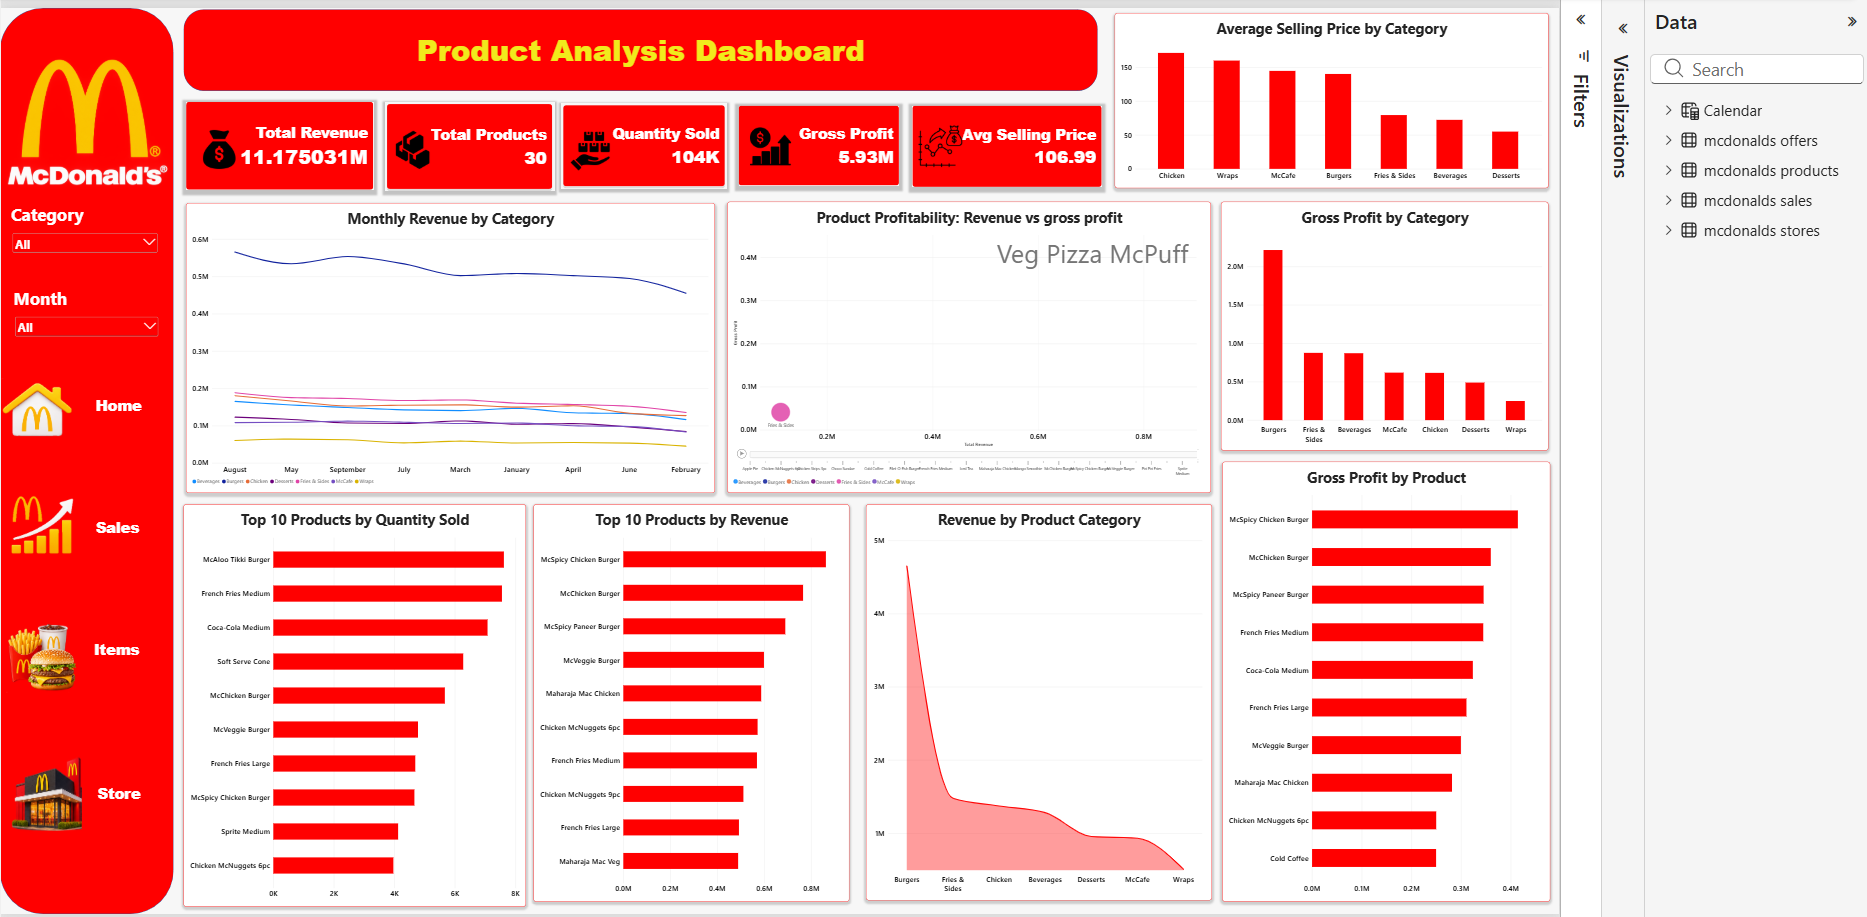

The dashboard page shown, as its layout file describes it:
{"tool":"powerbi","page":{"name":"products","canvas":[4300,2500],"ordinal":2},"visuals":[{"type":"group","id":"g1","title":"Group 4","box":[-3.6,0,479.7,2500],"z":0,"group":"g12"},{"type":"group","id":"g2","title":"Group 1","box":[-3.6,0,479.7,2500],"z":0,"group":"g4"},{"type":"shape","box":[-3.6,0,479.7,2500],"z":0,"group":"g2"},{"type":"areaChart","title":"Revenue by Product Category","fields":{"Category":["mcdonalds products.category"],"Y":["mcdonalds sales.Total Revenue"]},"box":[2387.9,1369.1,954.2,1092.5],"z":0},{"type":"image","box":[15,1339.2,195.2,181.8],"z":500,"group":"g2"},{"type":"image","box":[15,1681.9,195.2,205.3],"z":750,"group":"g2"},{"type":"image","box":[28.9,2065.9,195.2,208.7],"z":875,"group":"g2"},{"type":"image","box":[-3.6,0,479.7,609.8],"z":1000,"group":"g2"},{"type":"group","id":"g3","title":"Group 6","box":[-3.6,0,479.7,2500],"z":1000,"group":"g1"},{"type":"barChart","title":"Top 10 Products by Revenue","fields":{"Category":["mcdonalds products.product_name"],"Y":["mcdonalds sales.Total Revenue"]},"box":[1470.5,1369.1,871.3,1097.1],"z":1000},{"type":"textbox","title":"Sales","box":[210.3,1403.1,221.5,57.3],"z":1000,"group":"g12"},{"type":"slicer","title":"Category","fields":{"Values":["mcdonalds products.category"]},"box":[28.9,539.3,409.2,178.2],"z":1750,"group":"g2"},{"type":"slicer","title":"Month","fields":{"Values":["Calendar.Month"]},"box":[33.6,767.8,404.5,173.7],"z":1875,"group":"g2"},{"type":"textbox","title":"Home","box":[206.2,1070,234.3,68.6],"z":2000,"group":"g2"},{"type":"barChart","title":"Top 10 Products by Quantity Sold","fields":{"Category":["mcdonalds products.product_name"],"Y":["mcdonalds sales.Quantity Sold"]},"box":[503.5,1369.2,945,1110.5],"z":2000},{"type":"textbox","title":"Items","box":[228.7,1742.7,182.2,68.6],"z":2000,"group":"g12"},{"type":"cardVisual","fields":{"Data":["mcdonalds sales.Total Revenue"]},"box":[510.9,258,517.4,243.5],"z":3000,"group":"g8"},{"type":"scatterChart","title":"Product Profitability: Revenue vs gross profit ","fields":{"Category":["mcdonalds products.product_name"],"Play":["mcdonalds products.product_name"],"Series":["mcdonalds products.category"],"Size":["mcdonalds sales.Quantity Sold"],"X":["mcdonalds sales.Total Revenue"],"Y":["mcdonalds sales.Gross Profit"]},"box":[2003.8,534.6,1334.7,803.6],"z":3000},{"type":"barChart","title":"Gross Profit by Product","fields":{"Category":["mcdonalds products.product_name"],"Y":["mcdonalds sales.Profit"]},"box":[3369.5,1251.9,904.8,1213.7],"z":4000},{"type":"cardVisual","fields":{"Data":["mcdonalds products.Avg Selling Price"]},"box":[2514.5,268.9,523.4,225.4],"z":5000,"group":"g11"},{"type":"columnChart","title":"Gross Profit by Category","fields":{"Category":["mcdonalds products.category"],"Y":["mcdonalds sales.Profit"]},"box":[3366.1,534.6,903.6,686.3],"z":5000},{"type":"columnChart","title":"Average Selling Price by Category","fields":{"Category":["mcdonalds products.category"],"Y":["mcdonalds products.Average Selling Price"]},"box":[3072.9,13.8,1196.7,482.8],"z":6000},{"type":"cardVisual","fields":{"Data":["mcdonalds products.Total Products"]},"box":[1057.4,258,468.9,247.2],"z":6000,"group":"g10"},{"type":"cardVisual","fields":{"Data":["mcdonalds sales.Total Quantity Sold"]},"box":[1544.3,261.6,458.2,236],"z":6000,"group":"g7"},{"type":"lineChart","title":"Monthly Revenue by Category","fields":{"Category":["Calendar.Month"],"Series":["mcdonalds products.category"],"Y":["mcdonalds sales.Total Revenue"]},"box":[510.4,538,1458.9,800.1],"z":7000},{"type":"image","box":[-3.6,1019.2,209.2,173.7],"z":7009,"group":"g4"},{"type":"group","id":"g4","title":"Group 2","box":[-3.6,0,479.7,2500],"z":7014,"group":"g5"},{"type":"group","id":"g5","title":"Group 3","box":[-3.6,0,479.7,2500],"z":7015,"group":"g3"},{"type":"textbox","title":"Store","box":[238.2,2139,174.9,57.3],"z":7020,"group":"g3"},{"type":"shape","box":[505.3,3.6,2522.6,225.4],"z":8000},{"type":"group","id":"g6","title":"Group 8","box":[-3.6,0,479.7,2500],"z":9000},{"type":"group","id":"g7","title":"Group 11","box":[1544.3,261.6,454.2,236.2],"z":10000},{"type":"group","id":"g8","title":"Group 9","box":[510.9,258,517.4,243.5],"z":11000},{"type":"group","id":"g9","title":"Group 13","box":[2034.9,268.9,443.3,221.7],"z":12000},{"type":"group","id":"g10","title":"Group 11","box":[1057.4,258,468.8,247.1],"z":13000},{"type":"group","id":"g11","title":"Group 12","box":[2514.5,268.9,523.3,225.3],"z":14000},{"type":"group","id":"g12","title":"Group 5","box":[-3.6,0,479.7,2500],"z":17000,"group":"g13"},{"type":"group","id":"g13","title":"Group 7","box":[-3.6,0,479.7,2500],"z":17001,"group":"g6"},{"type":"cardVisual","fields":{"Data":["mcdonalds sales.Gross Profit"]},"box":[2034.9,268.9,443.5,221.7],"z":17003,"group":"g9"},{"type":"image","box":[544.7,334.3,114.5,111.5],"z":17004,"group":"g8"},{"type":"image","box":[1079.3,321.5,113,141.6],"z":17008,"group":"g10"},{"type":"image","box":[1568,324.5,113,141.6],"z":17008,"group":"g7"},{"type":"image","box":[2532.7,290.7,120.9,182.6],"z":17010,"group":"g11"},{"type":"image","box":[2062.8,301.2,121.5,162.7],"z":17012,"group":"g9"}]}

Visuals, with their boxes on the page's 4300x2500 design canvas (x1, y1, x2, y2). These are canvas units, not pixel positions in the 1867x917 screenshot, which may show the page scaled, cropped or inside an application window:
"Group 4" group: [-4, 0, 476, 2500]
"Group 1" group: [-4, 0, 476, 2500]
shape: [-4, 0, 476, 2500]
"Revenue by Product Category" areaChart: [2388, 1369, 3342, 2462]
image: [15, 1339, 210, 1521]
image: [15, 1682, 210, 1887]
image: [29, 2066, 224, 2275]
image: [-4, 0, 476, 610]
"Group 6" group: [-4, 0, 476, 2500]
"Top 10 Products by Revenue" barChart: [1470, 1369, 2342, 2466]
"Sales" textbox: [210, 1403, 432, 1460]
"Category" slicer: [29, 539, 438, 718]
"Month" slicer: [34, 768, 438, 942]
"Home" textbox: [206, 1070, 440, 1139]
"Top 10 Products by Quantity Sold" barChart: [504, 1369, 1448, 2480]
"Items" textbox: [229, 1743, 411, 1811]
cardVisual - mcdonalds sales.Total Revenue: [511, 258, 1028, 502]
"Product Profitability: Revenue vs gross profit " scatterChart: [2004, 535, 3338, 1338]
"Gross Profit by Product" barChart: [3370, 1252, 4274, 2466]
cardVisual - mcdonalds products.Avg Selling Price: [2514, 269, 3038, 494]
"Gross Profit by Category" columnChart: [3366, 535, 4270, 1221]
"Average Selling Price by Category" columnChart: [3073, 14, 4270, 497]
cardVisual - mcdonalds products.Total Products: [1057, 258, 1526, 505]
cardVisual - mcdonalds sales.Total Quantity Sold: [1544, 262, 2002, 498]
"Monthly Revenue by Category" lineChart: [510, 538, 1969, 1338]
image: [-4, 1019, 206, 1193]
"Group 2" group: [-4, 0, 476, 2500]
"Group 3" group: [-4, 0, 476, 2500]
"Store" textbox: [238, 2139, 413, 2196]
shape: [505, 4, 3028, 229]
"Group 8" group: [-4, 0, 476, 2500]
"Group 11" group: [1544, 262, 1998, 498]
"Group 9" group: [511, 258, 1028, 502]
"Group 13" group: [2035, 269, 2478, 491]
"Group 11" group: [1057, 258, 1526, 505]
"Group 12" group: [2514, 269, 3038, 494]
"Group 5" group: [-4, 0, 476, 2500]
"Group 7" group: [-4, 0, 476, 2500]
cardVisual - mcdonalds sales.Gross Profit: [2035, 269, 2478, 491]
image: [545, 334, 659, 446]
image: [1079, 322, 1192, 463]
image: [1568, 324, 1681, 466]
image: [2533, 291, 2654, 473]
image: [2063, 301, 2184, 464]
